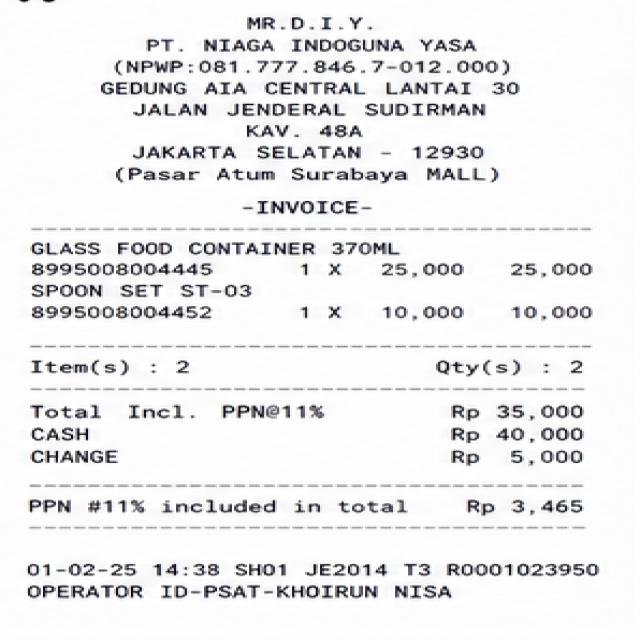date: (15, 562, 226, 579)
store: (244, 10, 381, 35)
total: (20, 402, 590, 422)
